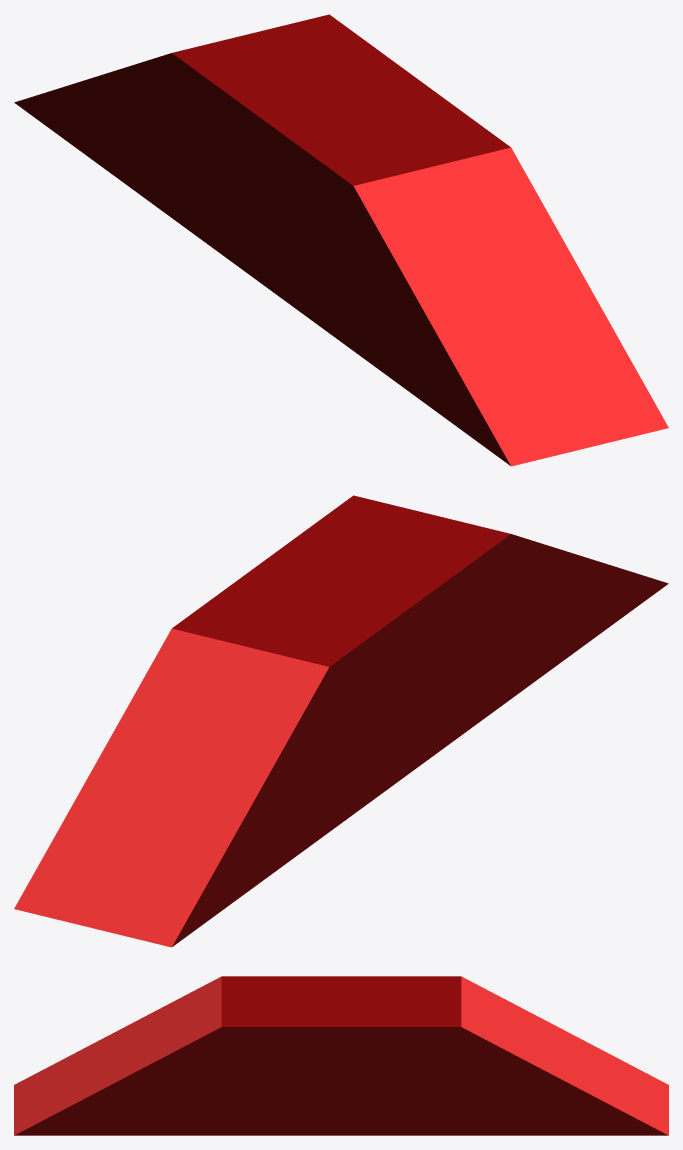
Rendered from 30slope2.dae.
3 renders of one model, top to bottom at view 1: azimuth 30°, elevation 25°; view 2: azimuth 150°, elevation 25°; view 3: azimuth 270°, elevation 25°, orthographic. The views are drawn at different scales.
Visible parts, largest first — view 1: SketchUp (×3); view 2: SketchUp (×3); view 3: SketchUp (×4).
Part boxes in pixels (left/top/right/bottom): SketchUp (×3): left=14, top=14, right=668, bottom=466; SketchUp (×3): left=14, top=495, right=668, bottom=947; SketchUp (×4): left=14, top=976, right=668, bottom=1135.
Size of the model in its own units: 78.74 by 430 by 78.74.
